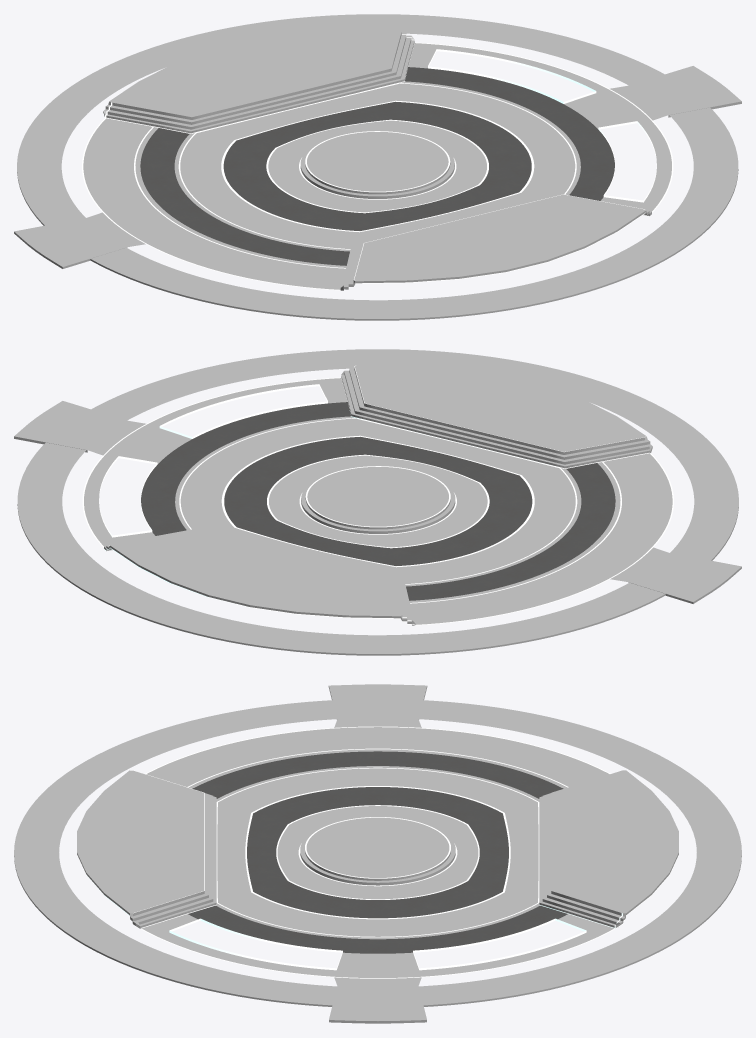
Rendered from Showroom_Ground.fbx.
3 views of the same model, one above another, from view 1: azimuth 30°, elevation 25°; view 2: azimuth 150°, elevation 25°; view 3: azimuth 270°, elevation 25° (orthographic).
Visible parts, largest first — view 1: First Floor.001; view 2: First Floor.001; view 3: First Floor.001.
Boxes of the visible parts, left/top/right/bottom form: First Floor.001: left=14, top=14, right=741, bottom=320; First Floor.001: left=14, top=349, right=741, bottom=655; First Floor.001: left=14, top=684, right=741, bottom=1023.
Bounding box in the file's own units: 333 × 6.12 × 305.
